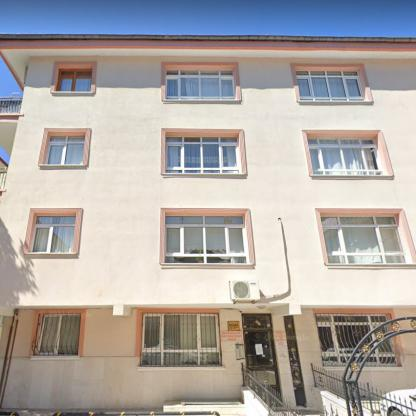door: (244, 331, 281, 403)
window: (320, 216, 410, 264), (316, 315, 398, 365), (165, 216, 248, 264), (141, 315, 220, 365), (307, 137, 383, 175), (164, 137, 239, 173), (166, 69, 234, 100), (296, 70, 364, 100), (36, 314, 80, 354), (31, 215, 77, 252), (284, 316, 303, 386), (47, 135, 85, 165), (58, 69, 92, 92), (243, 314, 271, 327)
